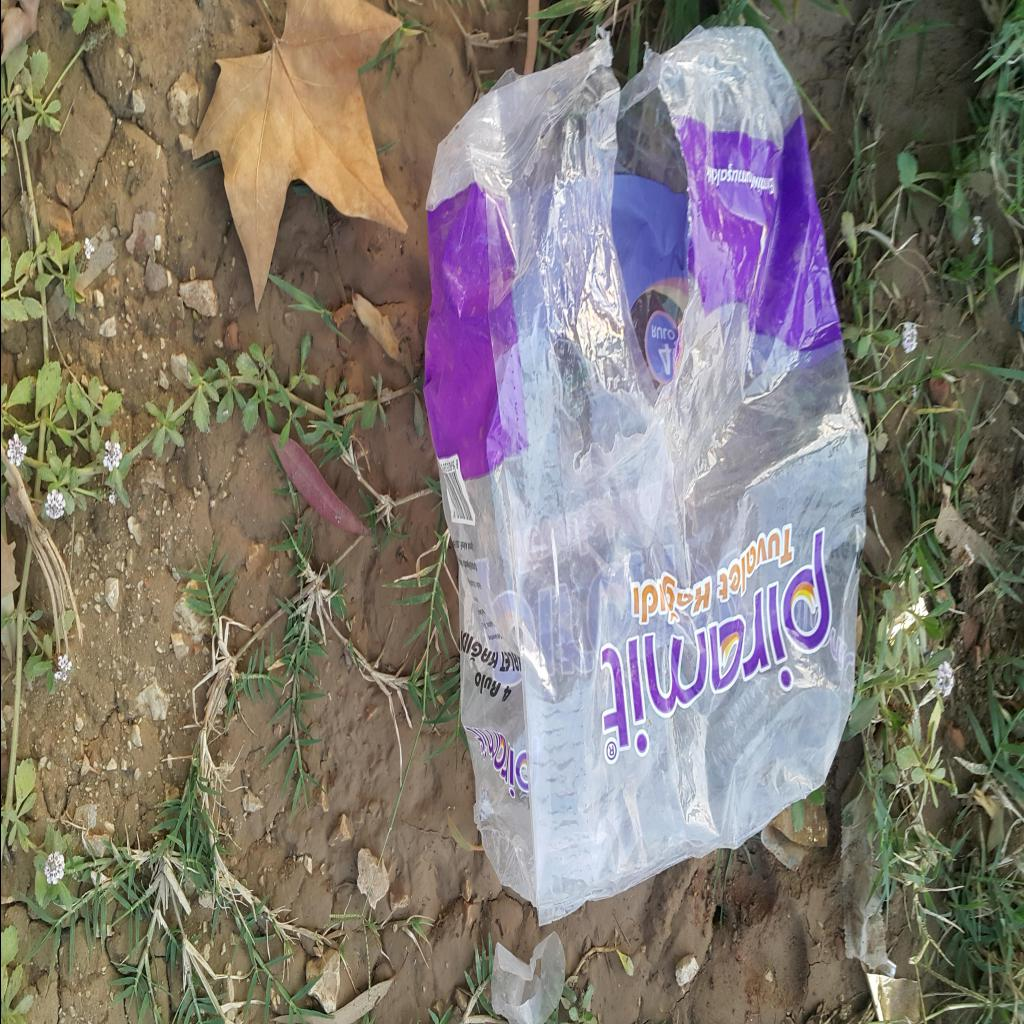Other plastic: (858, 959, 920, 1021), (884, 594, 928, 650)
Plastic film: (422, 23, 868, 927), (840, 746, 886, 970), (490, 930, 564, 1024)
